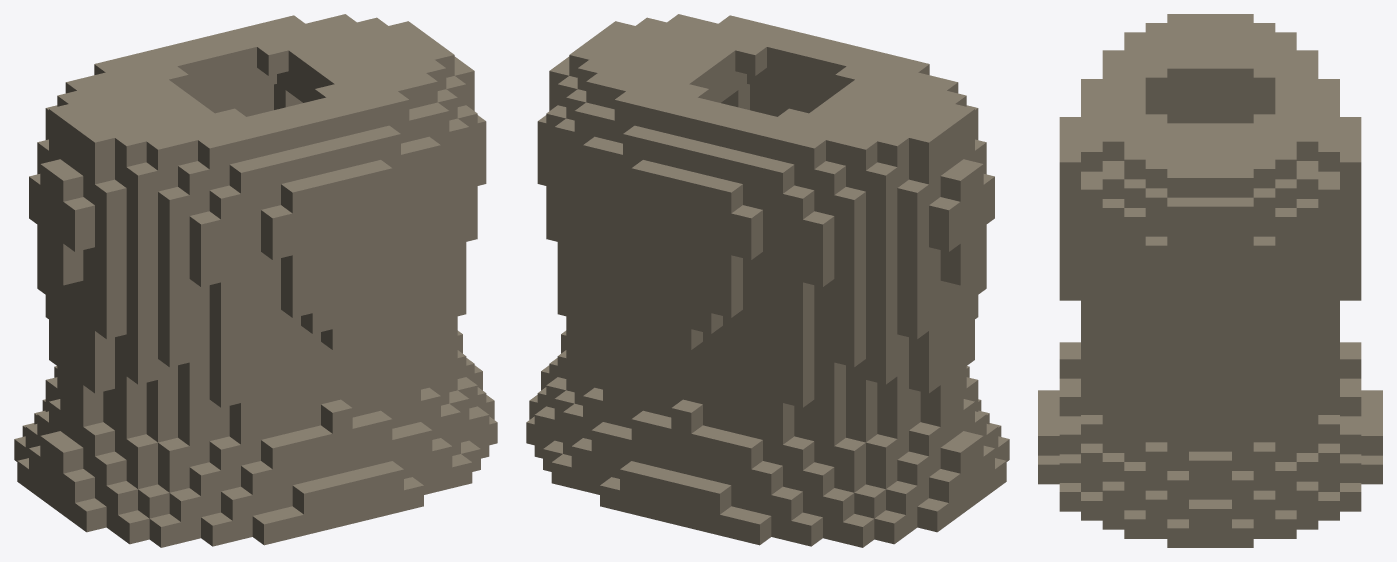
The model's file is cloth_uncommon_chest_lod1.glb.
The picture shows the model from 3 angles, left to right: view 1: azimuth 30°, elevation 25°; view 2: azimuth 150°, elevation 25°; view 3: azimuth 270°, elevation 25°; orthographic projection. The views are drawn at different scales.
Visible parts, largest first — view 1: cloth_uncommon_chest_lod1; view 2: cloth_uncommon_chest_lod1; view 3: cloth_uncommon_chest_lod1.
Boxes of the visible parts, box(x1,y1,x2,y2) form: cloth_uncommon_chest_lod1: box(14, 14, 497, 547); cloth_uncommon_chest_lod1: box(526, 14, 1009, 547); cloth_uncommon_chest_lod1: box(1038, 14, 1382, 547).
Size of the model in its own units: 0.504 by 0.432 by 0.384.
